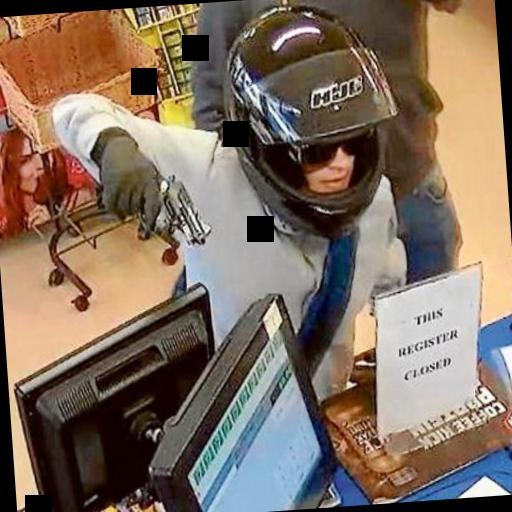Handgun: (98, 172, 212, 254)
